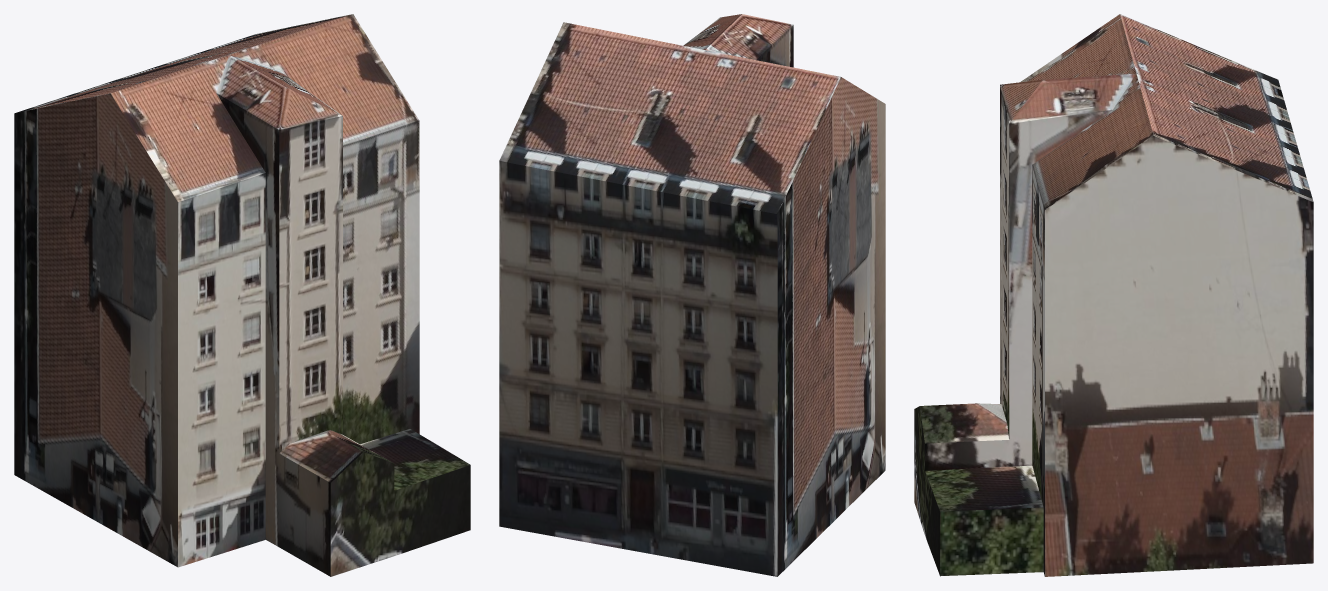
3 renders of one model, left to right at view 1: azimuth 30°, elevation 25°; view 2: azimuth 150°, elevation 25°; view 3: azimuth 270°, elevation 25°, orthographic.
Visible parts, largest first — view 1: Z_UP; view 2: Z_UP; view 3: Z_UP.
Boxes of the visible parts, bbox=[...] form: Z_UP: bbox=[14, 14, 470, 576]; Z_UP: bbox=[499, 14, 885, 576]; Z_UP: bbox=[914, 14, 1313, 576].
Bounding box in the file's own units: 18.27 × 26.69 × 22.18.
2 materials, 1 textured.
